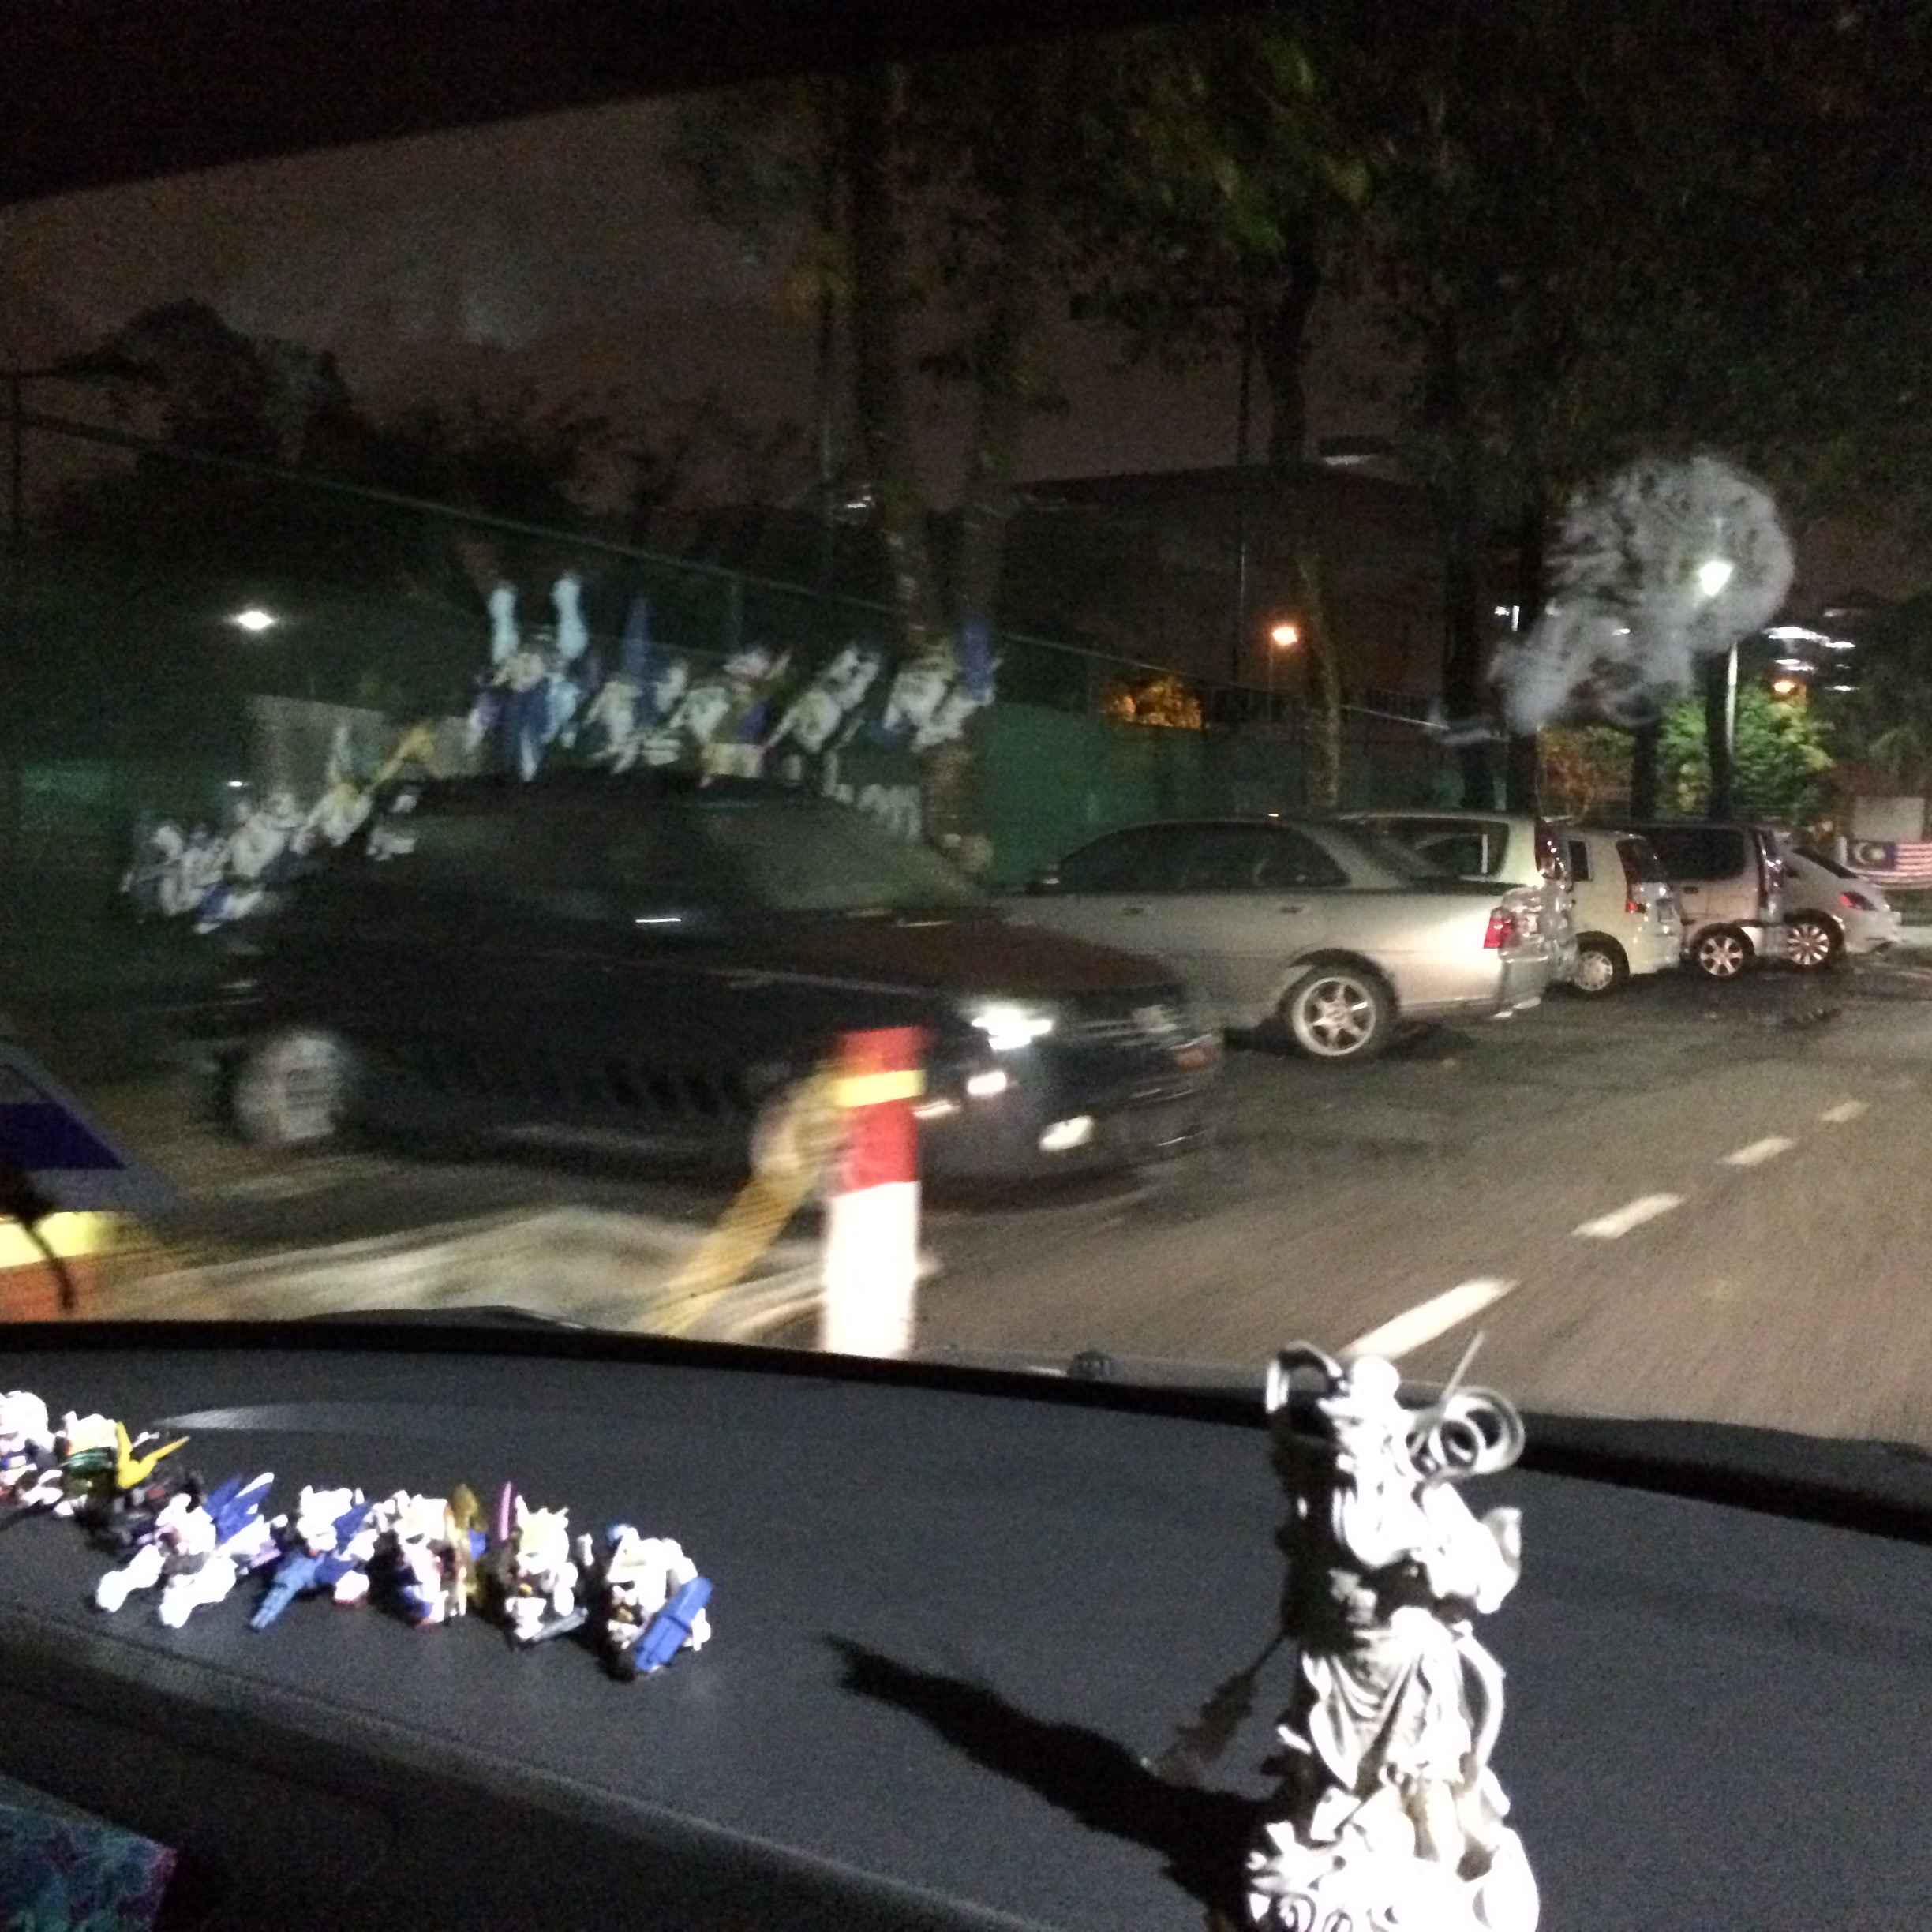car: (970, 800, 1562, 1079)
